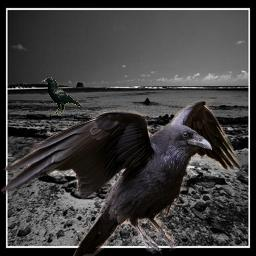Crow: (1, 99, 242, 256), (41, 77, 82, 116)
